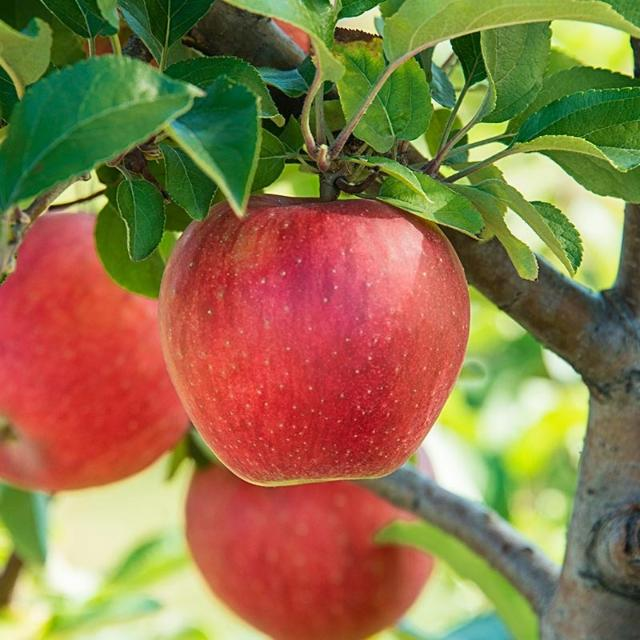Apple: (160, 195, 470, 484), (0, 214, 189, 491), (186, 465, 432, 640)
